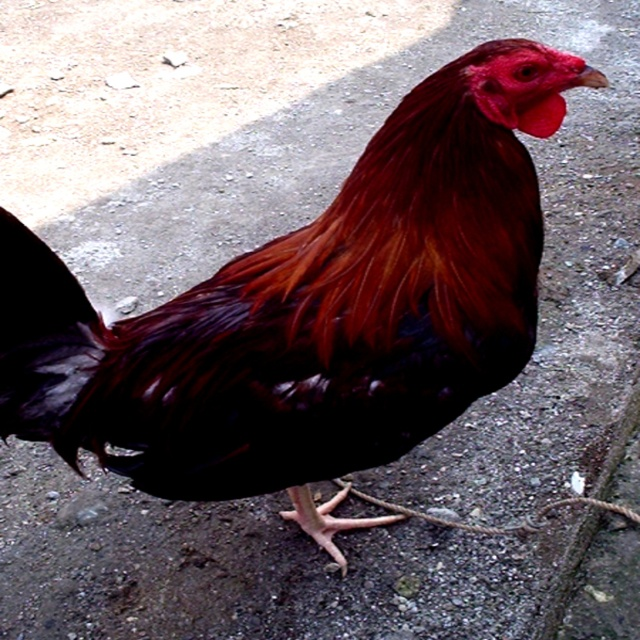Chicken: (0, 38, 610, 577)
